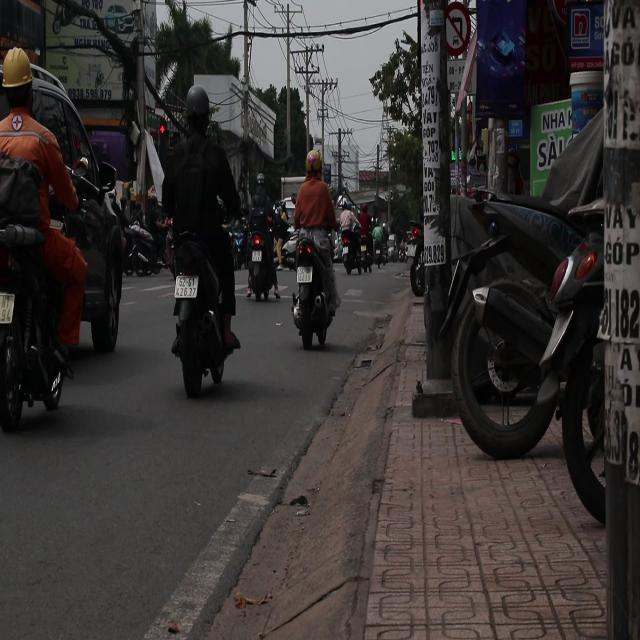car: (4, 36, 133, 384)
motorbike: (1, 223, 76, 429), (170, 248, 232, 398), (292, 217, 343, 370), (244, 186, 281, 302), (339, 216, 363, 276)
